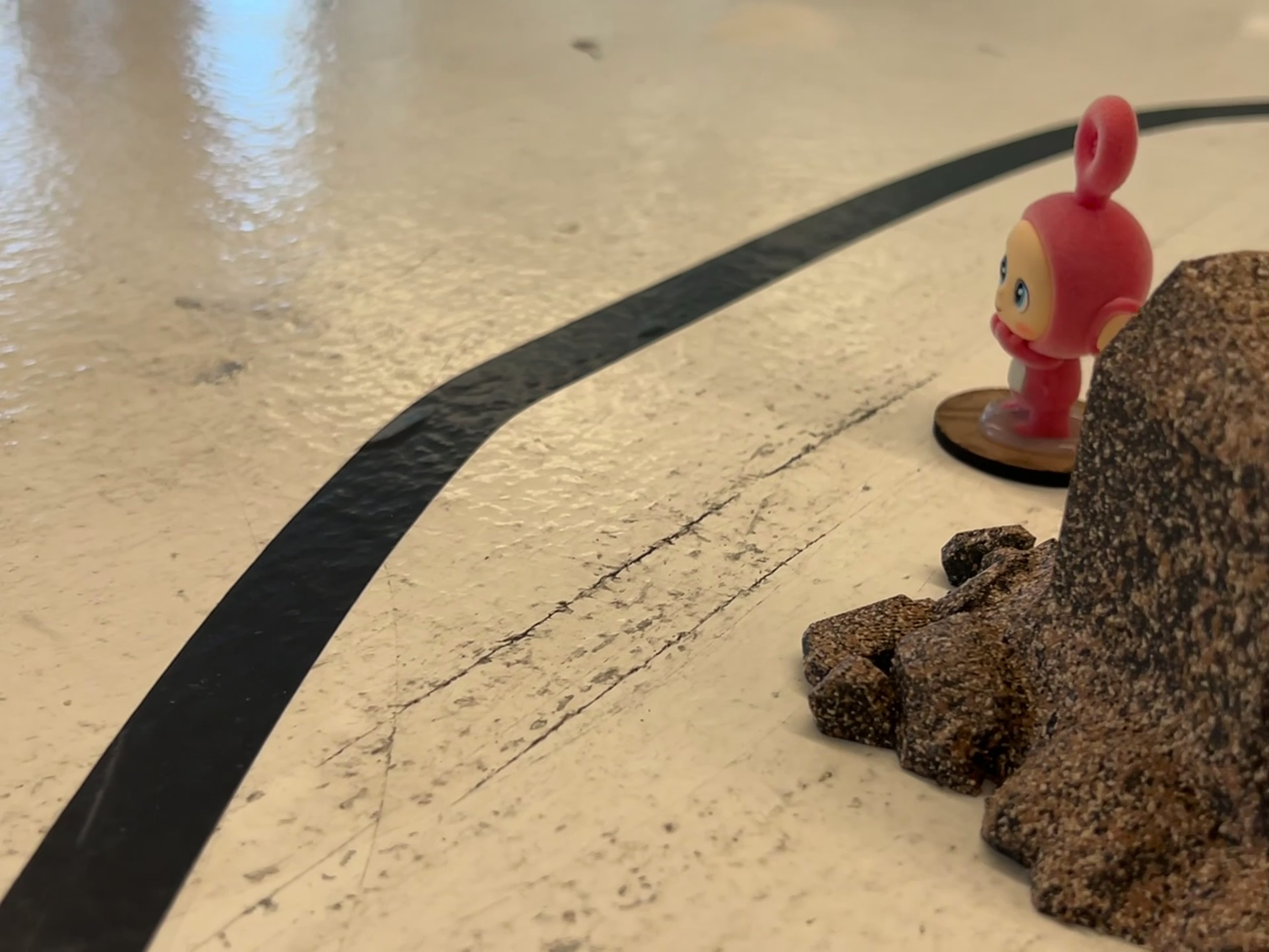teletubby: (990, 96, 1153, 440)
